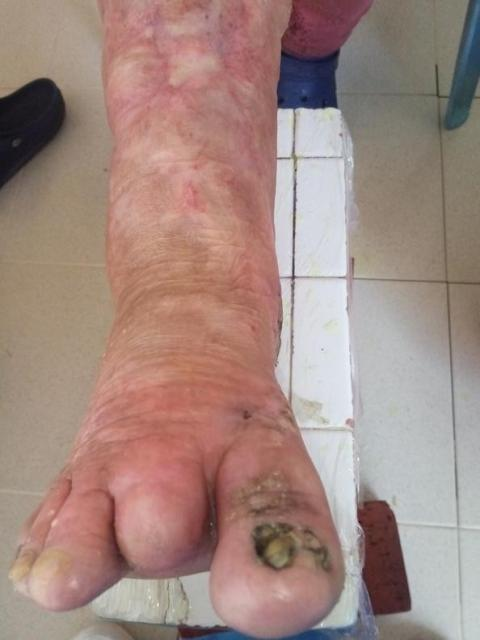wound: (229, 444, 336, 579)
